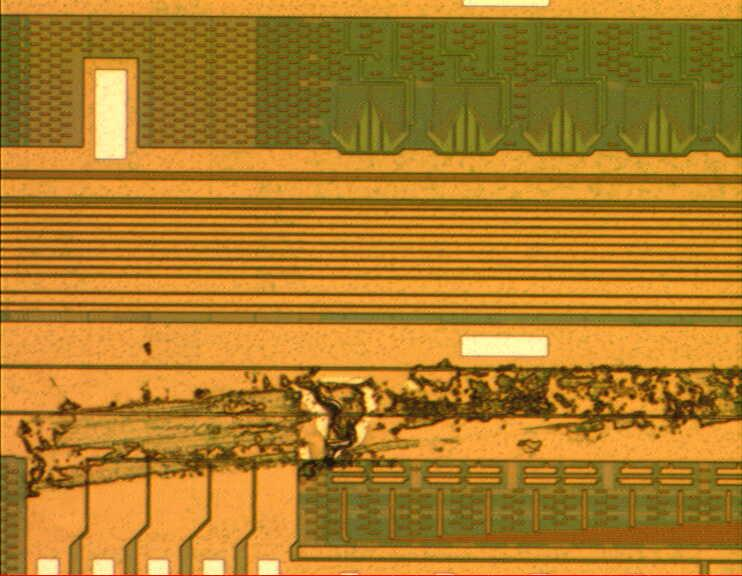SCRATCH: (5, 357, 742, 503)
